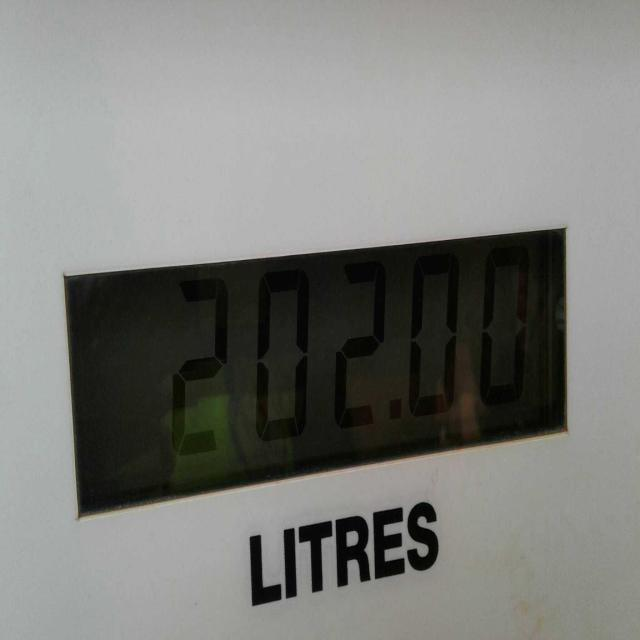.: (391, 396, 403, 421)
0: (252, 266, 306, 437), (480, 247, 530, 410), (411, 258, 453, 416)
2: (175, 278, 225, 458), (338, 260, 380, 428)
